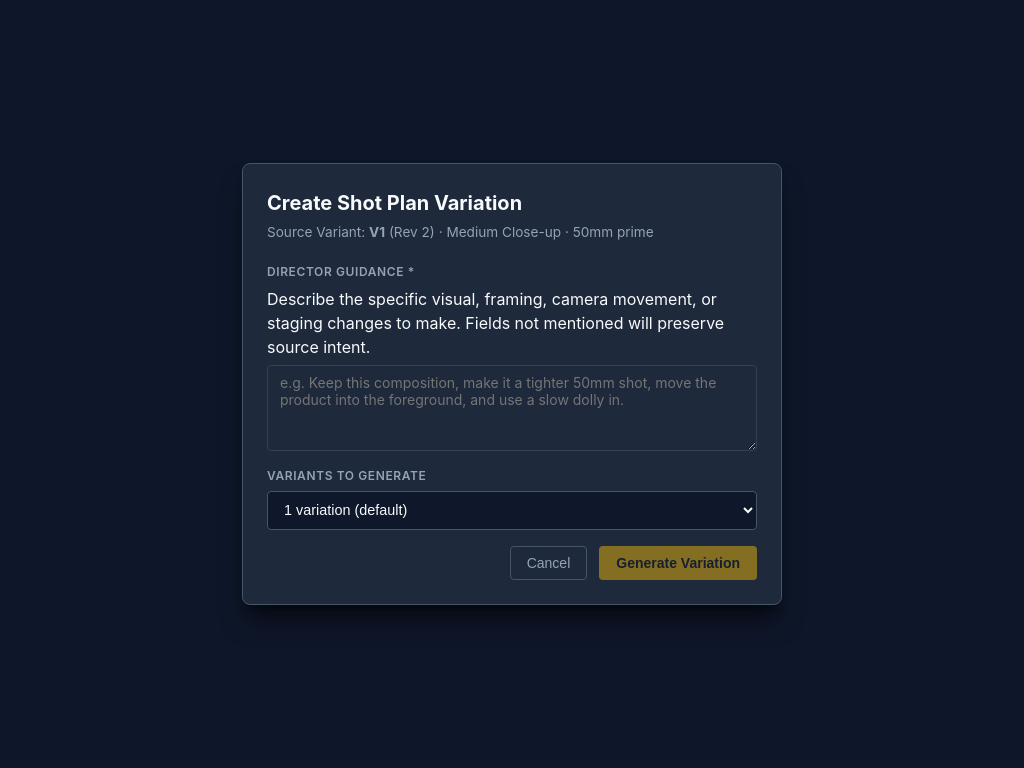
ShotPlanVariationModal › surfaces cloud planning not authorized error (403)
The image size is (1024, 768).
Replace the text in the text box with test id "variation-guidance-input" with "Tighter shot": (512, 408) x1=267 y1=365 x2=757 y2=451
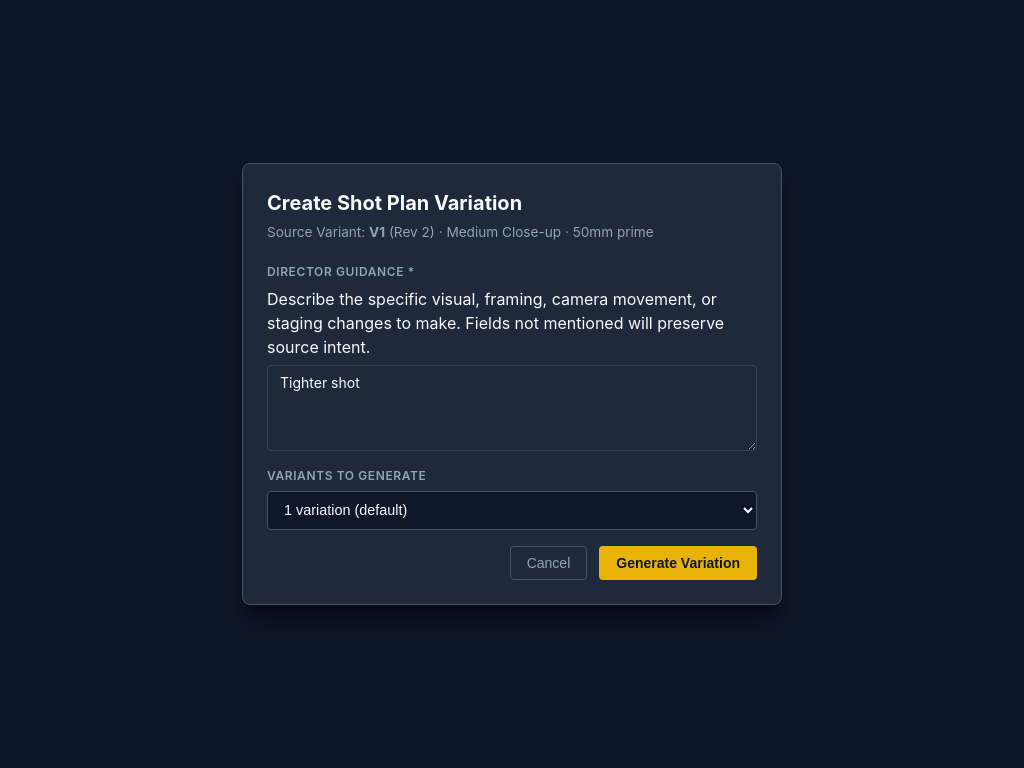
Click the button with test id "submit-variation-button": (678, 563) x1=599 y1=546 x2=757 y2=580
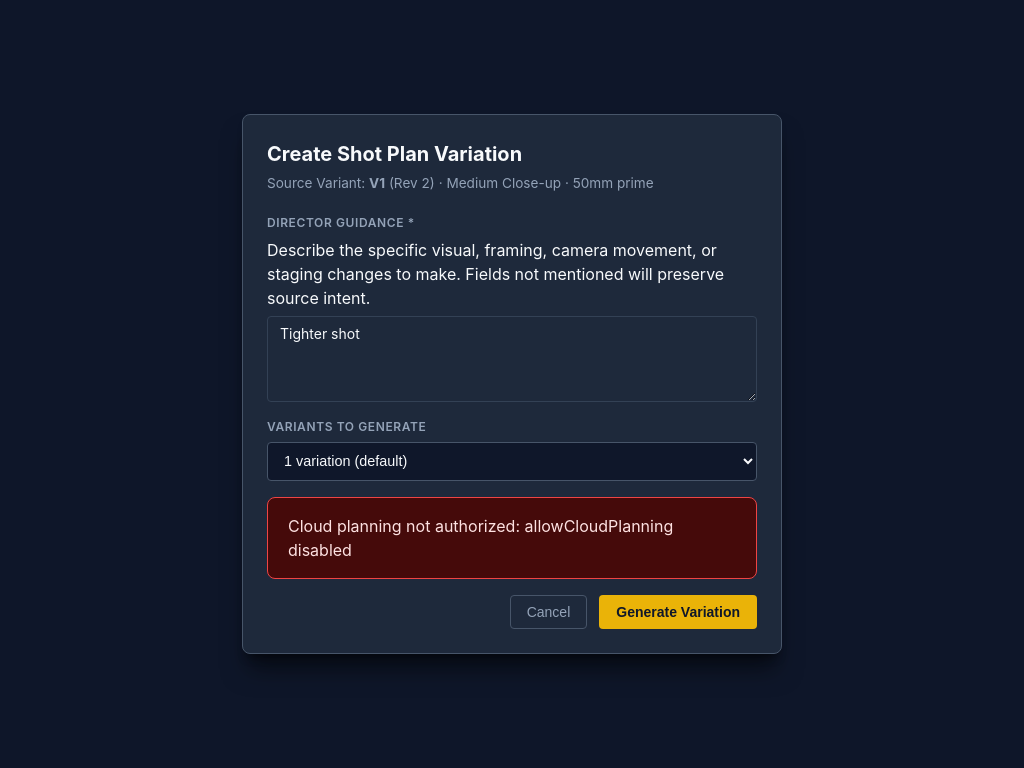
Expected: the message with test id "variation-error-message" shows "Cloud planning not authorized", x1=288 y1=516 x2=673 y2=560
